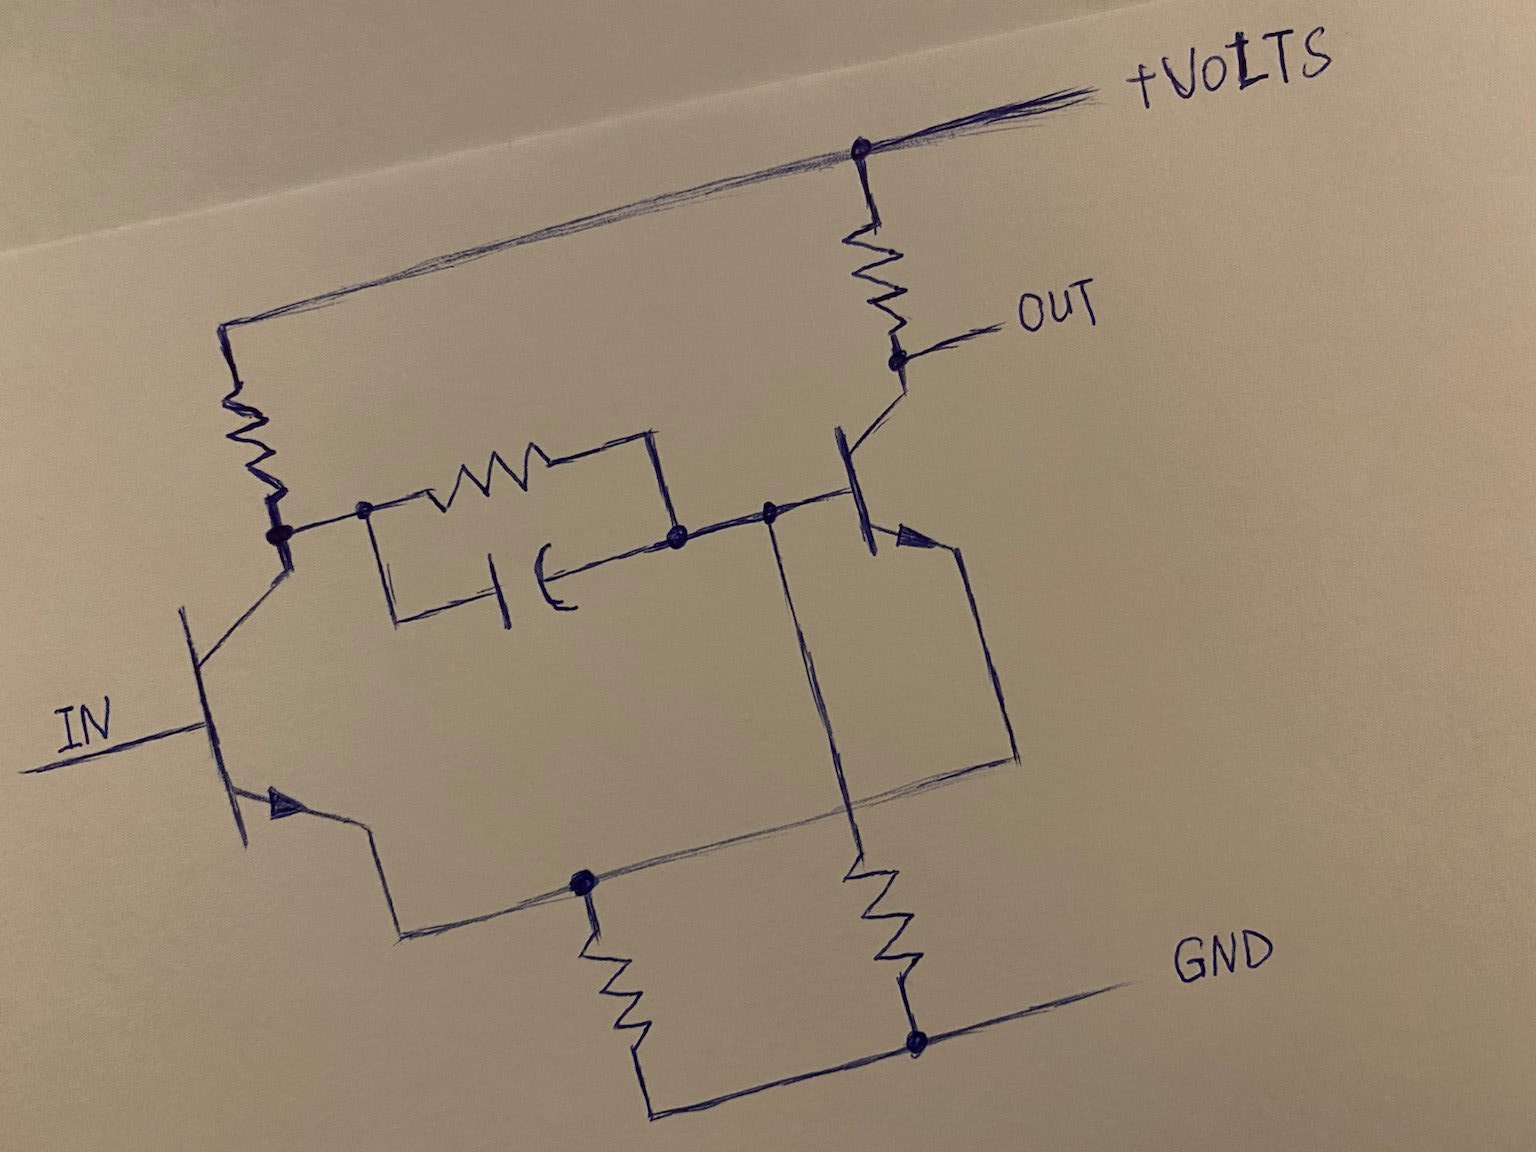capacitor.unpolarized: (474, 537, 584, 639)
crossover: (826, 784, 880, 825)
junction: (888, 1016, 947, 1076), (743, 491, 793, 545), (554, 857, 611, 904), (200, 303, 254, 349), (992, 728, 1039, 778), (633, 1095, 682, 1142), (653, 515, 701, 560), (620, 416, 669, 460), (377, 911, 420, 960), (379, 601, 426, 644), (343, 488, 387, 531), (839, 127, 880, 169), (255, 518, 302, 551), (883, 344, 919, 379)
resistor: (841, 853, 929, 990), (578, 929, 660, 1064), (410, 443, 558, 513), (216, 380, 293, 507), (841, 218, 918, 336)
terminal: (1082, 969, 1159, 1001), (968, 309, 1014, 341), (1064, 77, 1105, 113), (8, 761, 64, 781)
text: (1160, 27, 1335, 100), (1165, 925, 1277, 985), (1017, 273, 1108, 336), (48, 695, 110, 748), (1124, 61, 1157, 113)
transistor: (163, 571, 369, 836), (828, 391, 960, 555)
